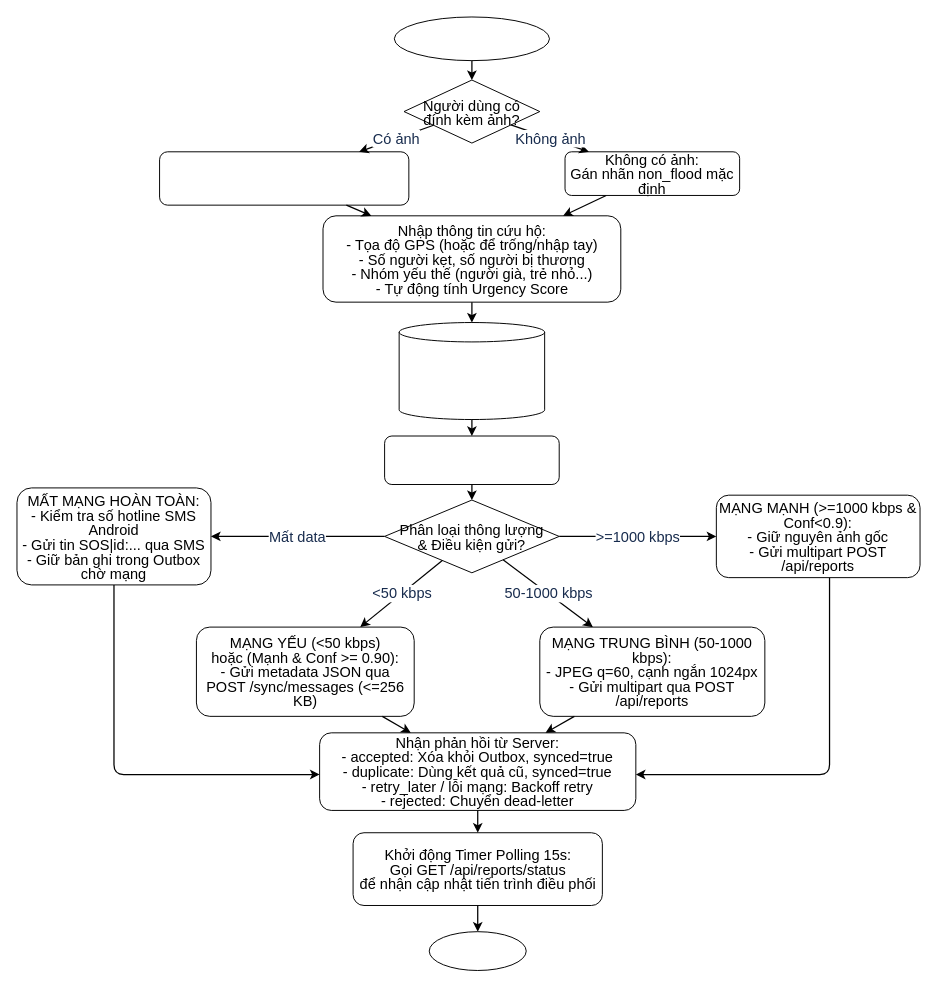
This 937x987 diagram has some shape labels left out. Here are the shapes that lost their labels. From the top down, the centre of each, then its label:
At point (471, 38): "Khởi tạo Báo cáo (SOS / Post)".
At point (284, 178): "Edge AI MobileNetV3 suy luận: - Nhãn ngập: non/low/med/high - Confidence score".
At point (471, 371): "Ghi ngay vào Hive Outbox (Store-and-forward cục bộ) Trạng thái: pending".
At point (471, 460): "Gọi GET /probe (64 KB) Đo thông lượng mạng thực tế (kbps)".
At point (477, 950): "Hoàn tất luồng client".
